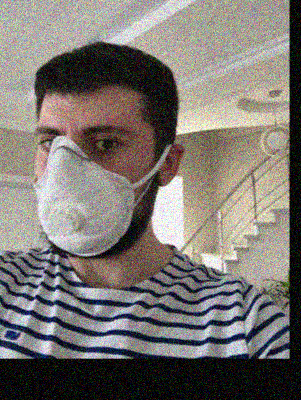with_mask: (33, 109, 137, 258)
